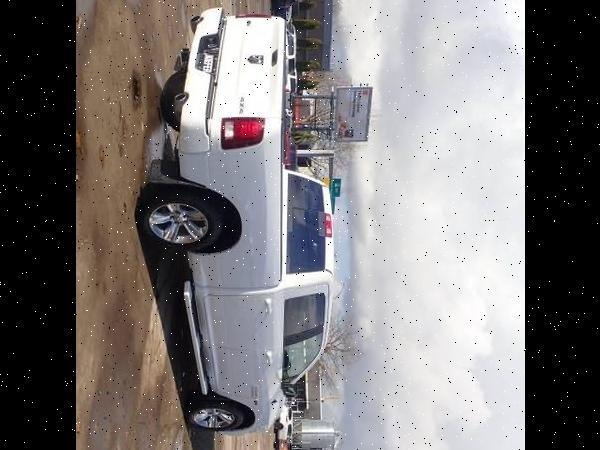Front_Fender: (227, 393, 282, 435)
Front_Right_Door: (201, 345, 284, 401)
Front_Right_Window: (283, 329, 326, 392)
Rear_Bumper: (175, 5, 225, 153)
Rear_Fender: (178, 116, 280, 290)
Rear_Right_Door: (192, 285, 282, 351)
Rear_Right_Window: (282, 279, 331, 345)
Rear_Windshield: (280, 168, 331, 289)
Right_Taillight: (220, 118, 265, 150)
Tailgate: (209, 14, 287, 119)
Wheel: (136, 180, 225, 251), (189, 394, 243, 431)
